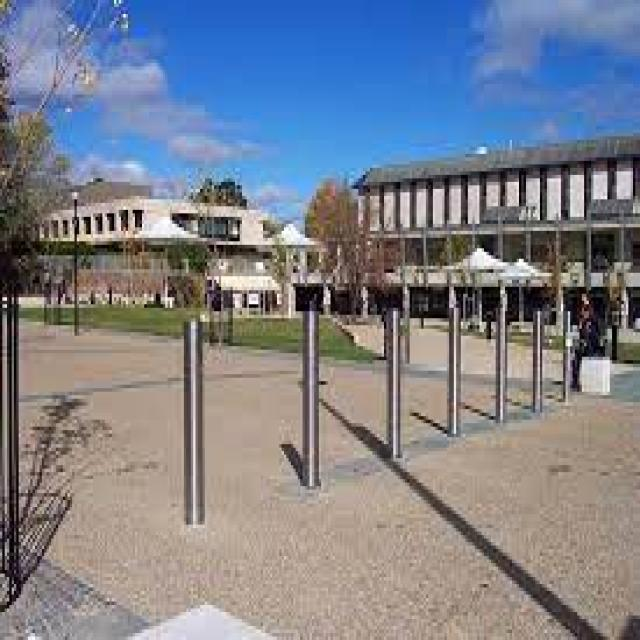bollard: (184, 310, 205, 524), (302, 301, 324, 496), (384, 307, 404, 464), (447, 306, 465, 438), (492, 304, 510, 431), (532, 304, 547, 417), (565, 310, 573, 410)
